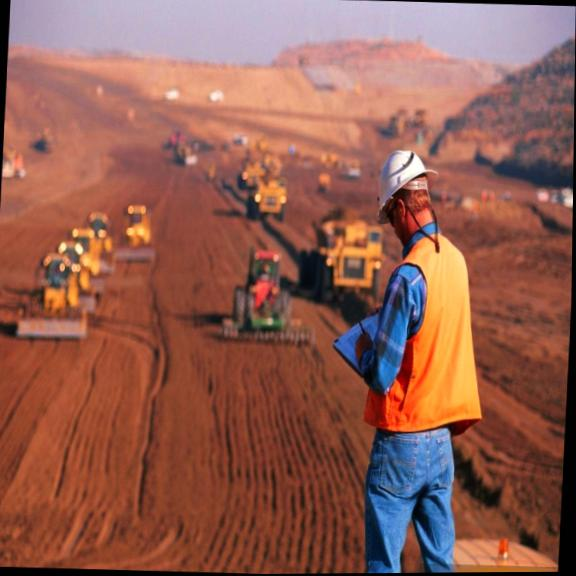safety_vest: (364, 226, 490, 437)
